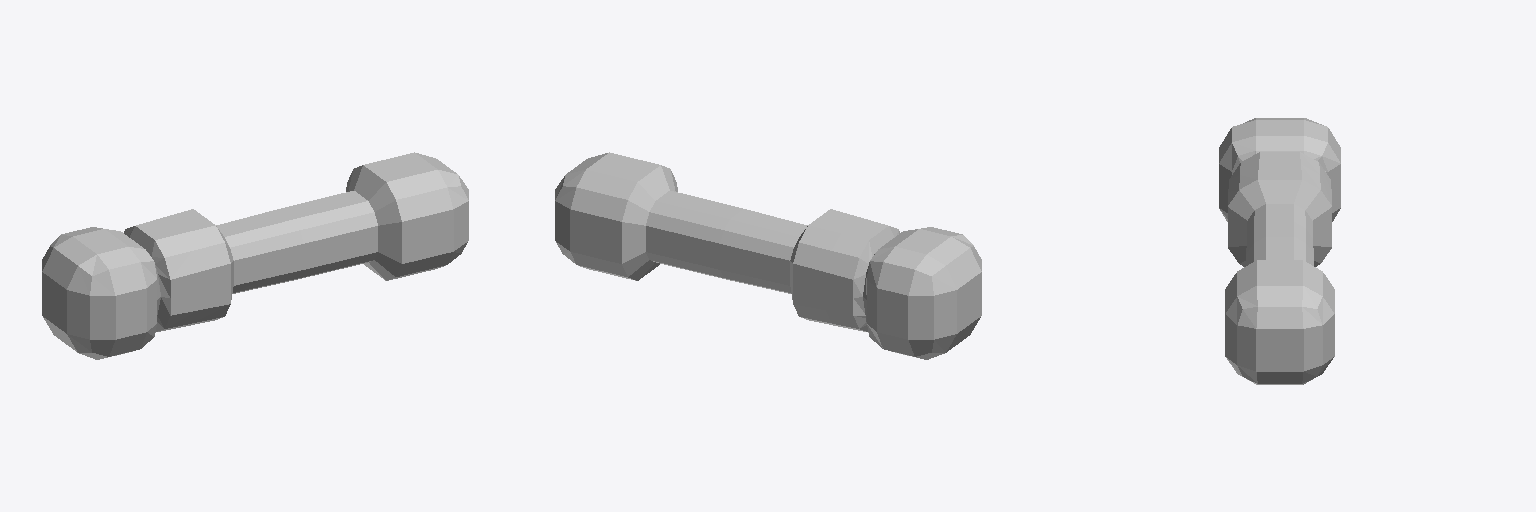
The model's file is dummy_arm_right.obj.
3 views of the same model, side by side, from view 1: azimuth 30°, elevation 25°; view 2: azimuth 150°, elevation 25°; view 3: azimuth 270°, elevation 25° (orthographic).
Parts seen in each view (by area): view 1: Dummy_ArmRight_Cube.16120; view 2: Dummy_ArmRight_Cube.16120; view 3: Dummy_ArmRight_Cube.16120.
Part boxes in pixels (x1,y1,x2,y2): Dummy_ArmRight_Cube.16120: (42,152,468,359); Dummy_ArmRight_Cube.16120: (555,152,981,359); Dummy_ArmRight_Cube.16120: (1219,118,1340,384).
Bounding box in the file's own units: 0.8824 × 0.224 × 0.2323.